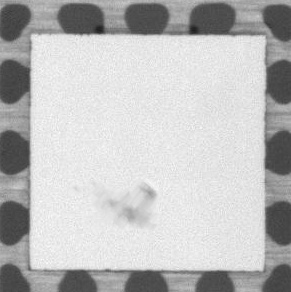DIE_INK: (113, 182, 161, 232)
